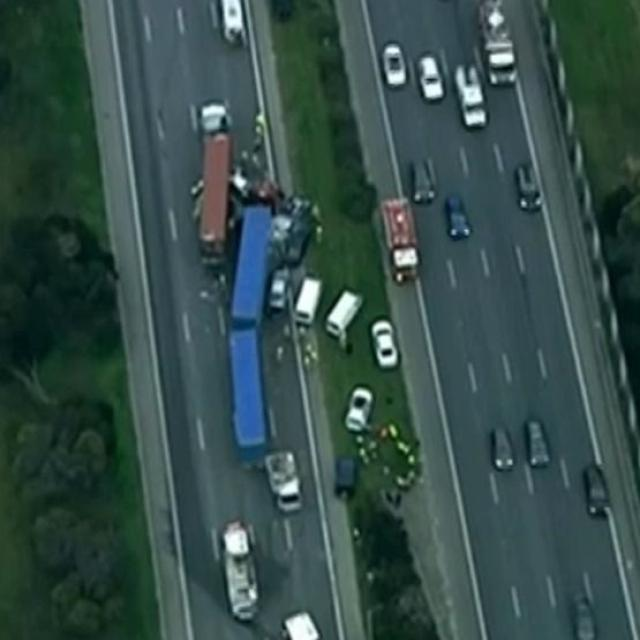traffic_incident: (172, 118, 330, 299), (263, 453, 308, 517)
